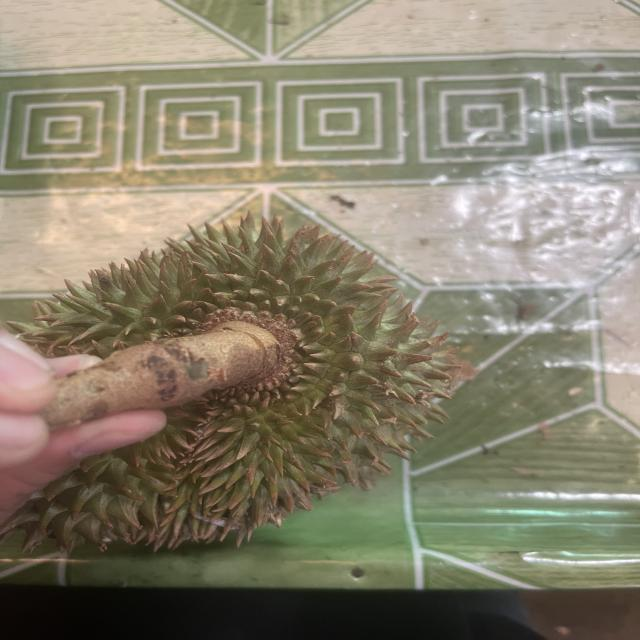mature: (12, 189, 463, 571)
